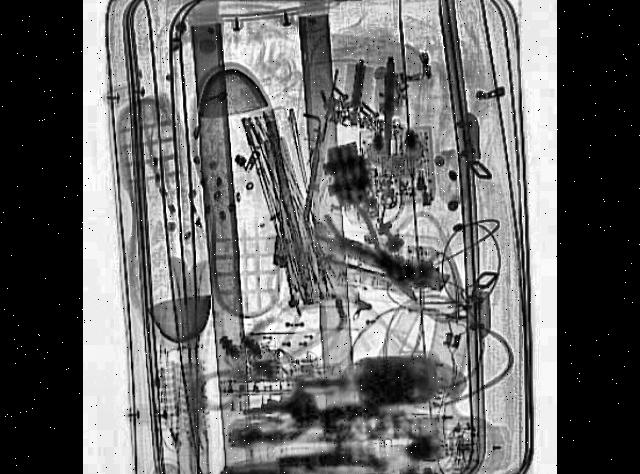Pliers: (322, 180, 428, 316)
